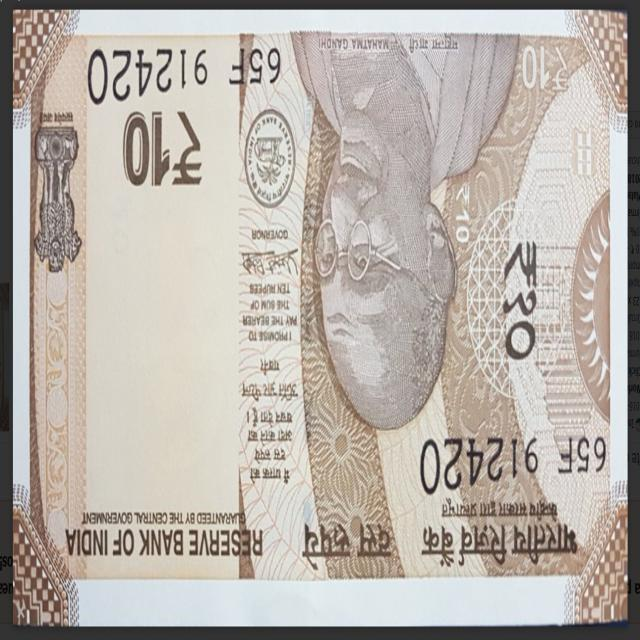10IndianRupees: (13, 9, 628, 623), (238, 5, 625, 622), (12, 9, 289, 619)
